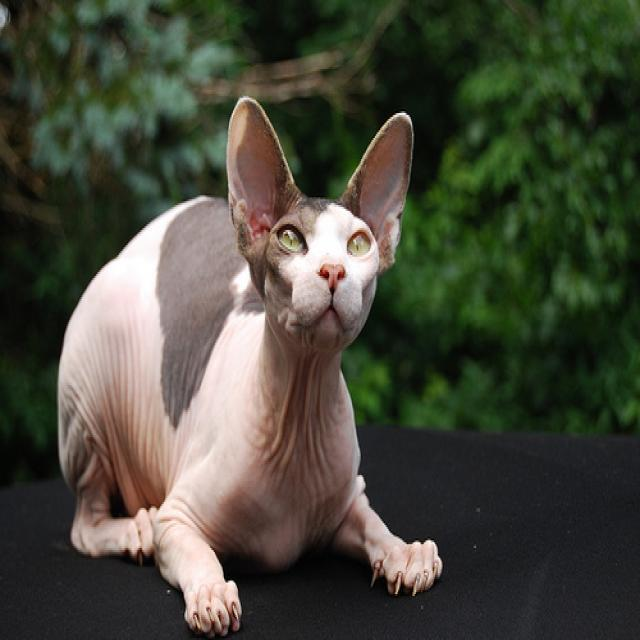Sphynx: (224, 92, 411, 349)
